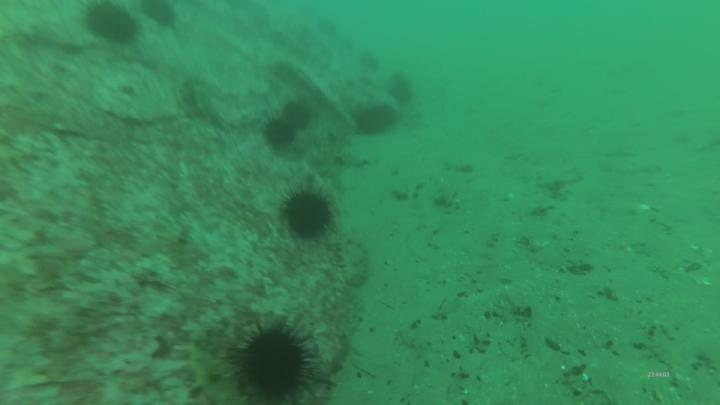echinus: (223, 311, 336, 405), (279, 181, 340, 246), (82, 1, 143, 49), (128, 1, 182, 36), (261, 112, 299, 158), (354, 104, 393, 141), (279, 99, 314, 134), (387, 73, 417, 107), (354, 49, 386, 75), (315, 15, 341, 40)
holothurian: (177, 323, 252, 405), (335, 234, 374, 291)
